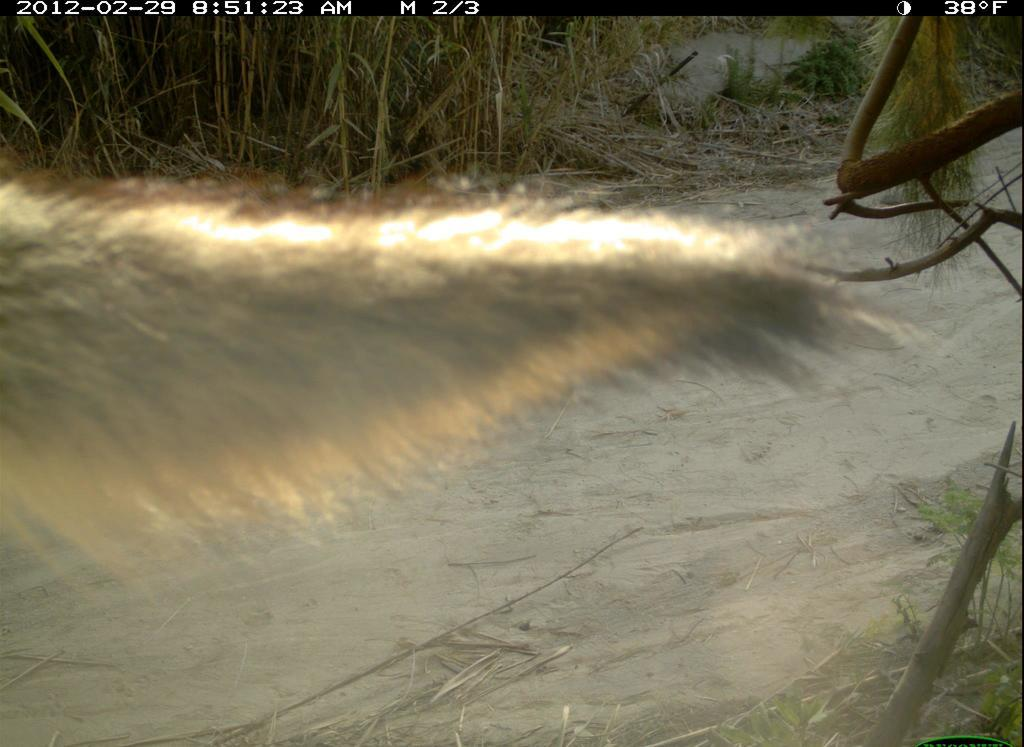coyote: (6, 146, 937, 609)
